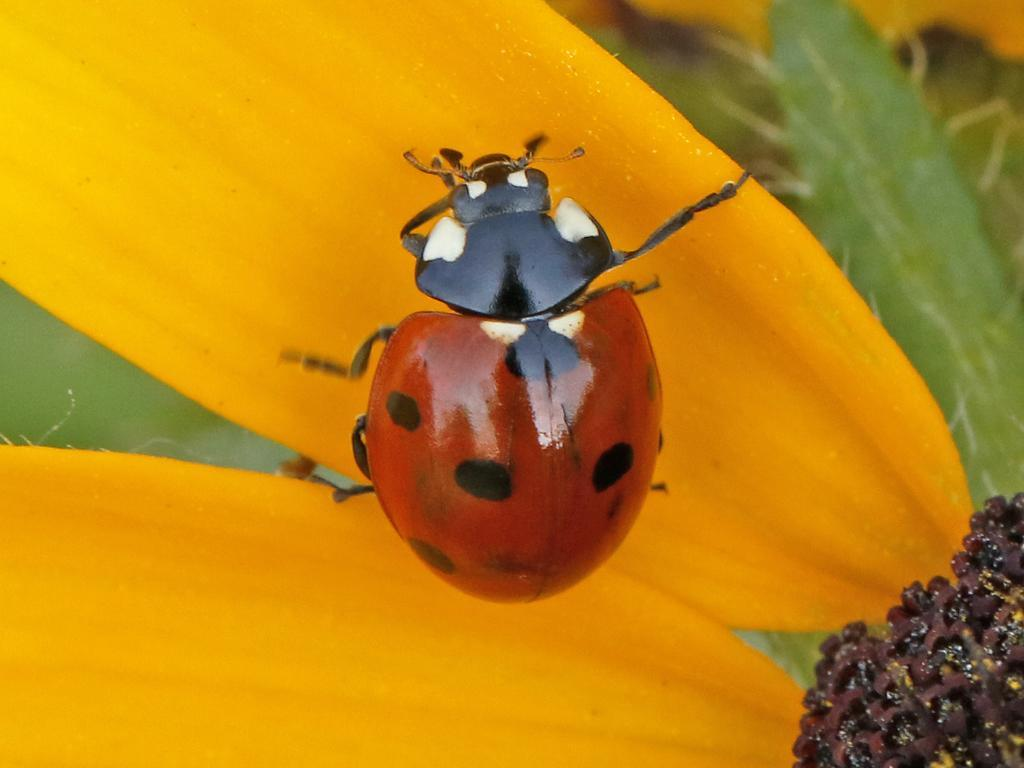ladybug: (275, 129, 759, 607)
